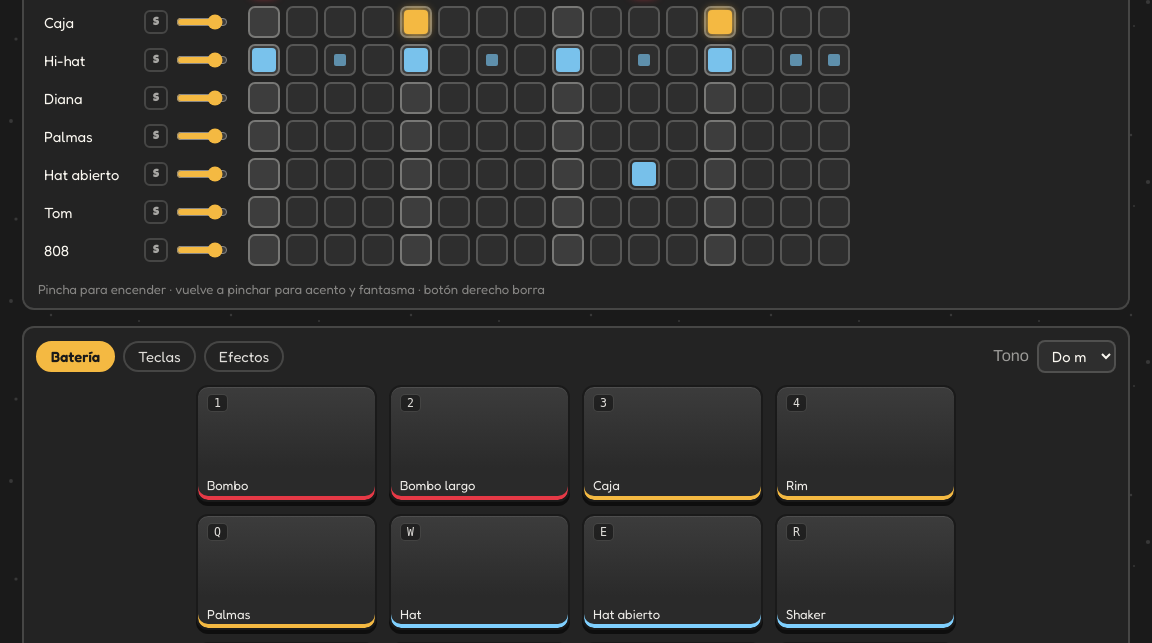
Test case: La mesa de beats › cambia de banco de pads y afina las teclas con la tonalidad
(page scrolled)
Expected: the button with aria-label "Pad 1: Bombo" is shown, [196,385,377,502]
Step 1. Click the button "Teclas" → point(159, 356), box [123,341,196,372]
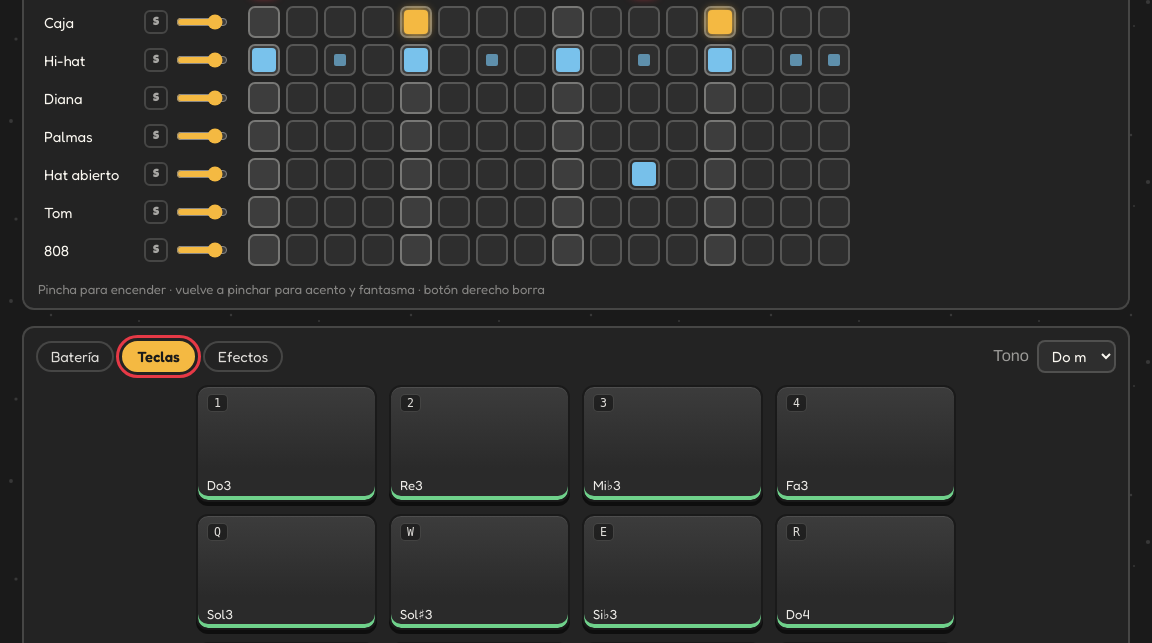
Expected: the button with aria-label "Pad 1: Do3" is shown, [196,385,377,502]
Step 2. Select "Fa m" in the dropdown labelled "Tono" → point(1076, 356), box [1037,340,1116,373]
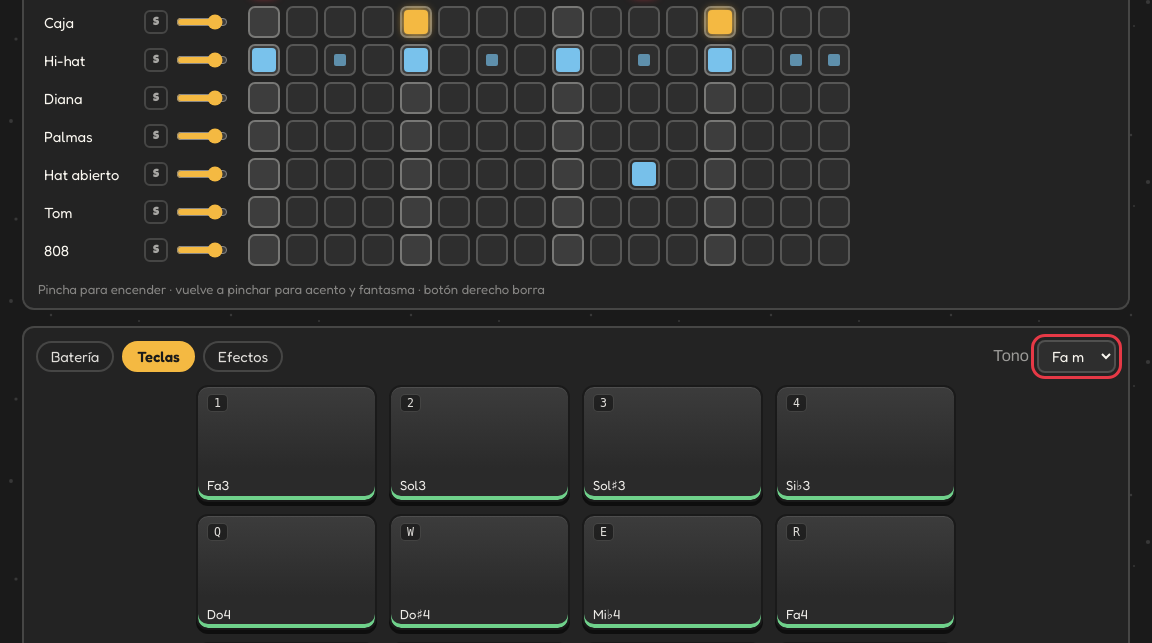
Expected: the button with aria-label "Pad 1: Fa3" is shown, [196,385,377,502]
Step 3. Click the button "Efectos" → point(243, 356), box [203,341,283,372]
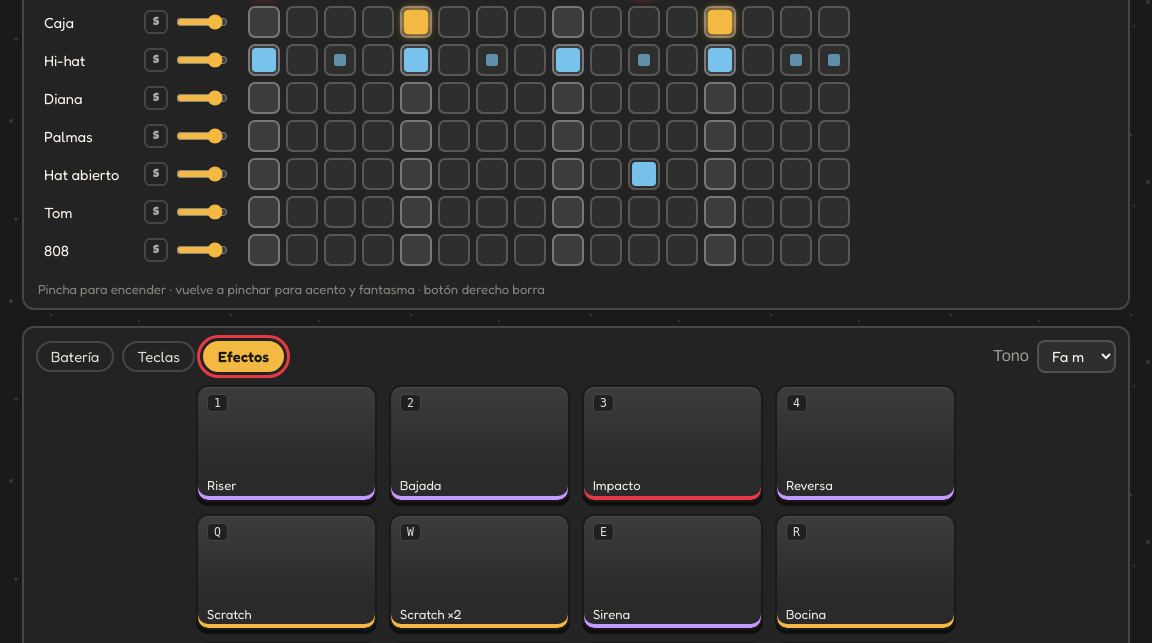
Expected: the button with aria-label "Pad 3: Impacto" is shown, [582,385,763,502]
